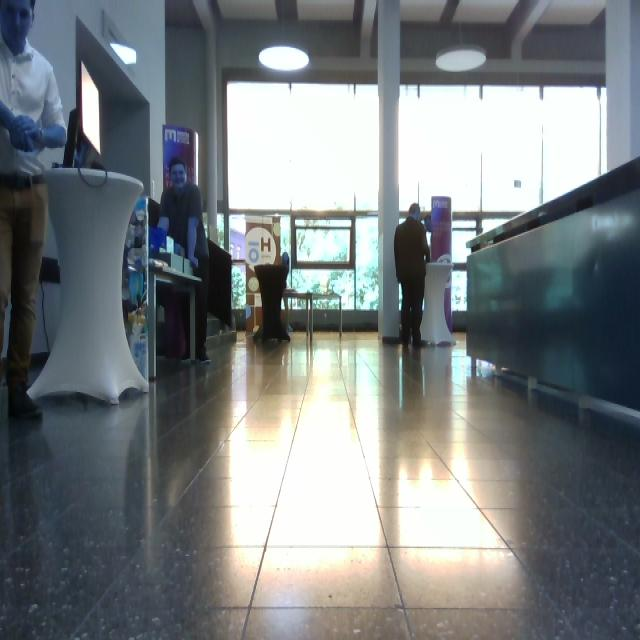door: (75, 16, 151, 380)
light bulb: (258, 1, 310, 73), (436, 45, 487, 73), (258, 45, 310, 72), (110, 42, 137, 65)
person: (1, 1, 68, 420), (158, 156, 212, 365), (394, 202, 431, 349)
pillar: (26, 165, 150, 405), (377, 1, 402, 342)
tiled floor: (2, 328, 639, 638)
window: (226, 77, 380, 320)
